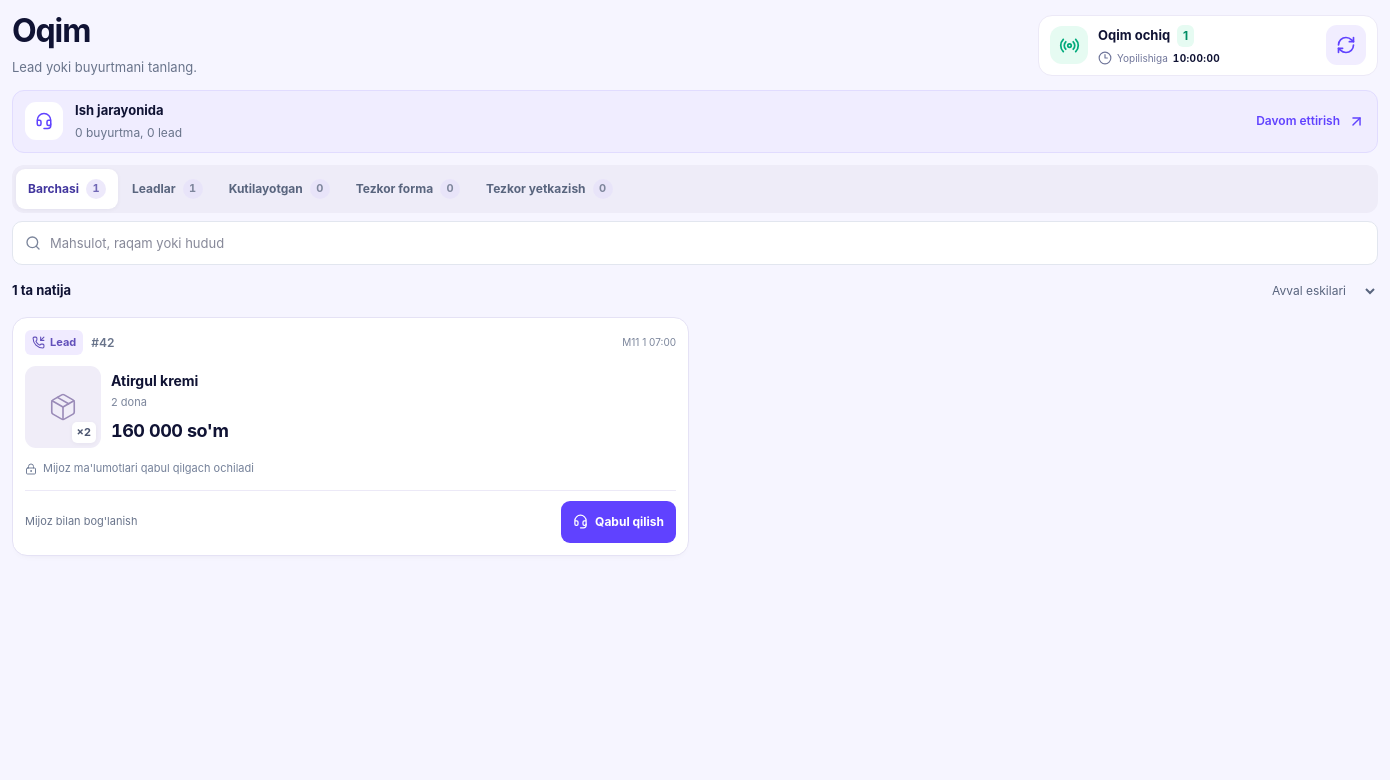
Scenario: operator lead rendering regression › searches lead products and shows an honest no-results state
Type "atirgul" into the field named "Oqimdan qidirish" at (708, 243), box [50,222,1365,264]
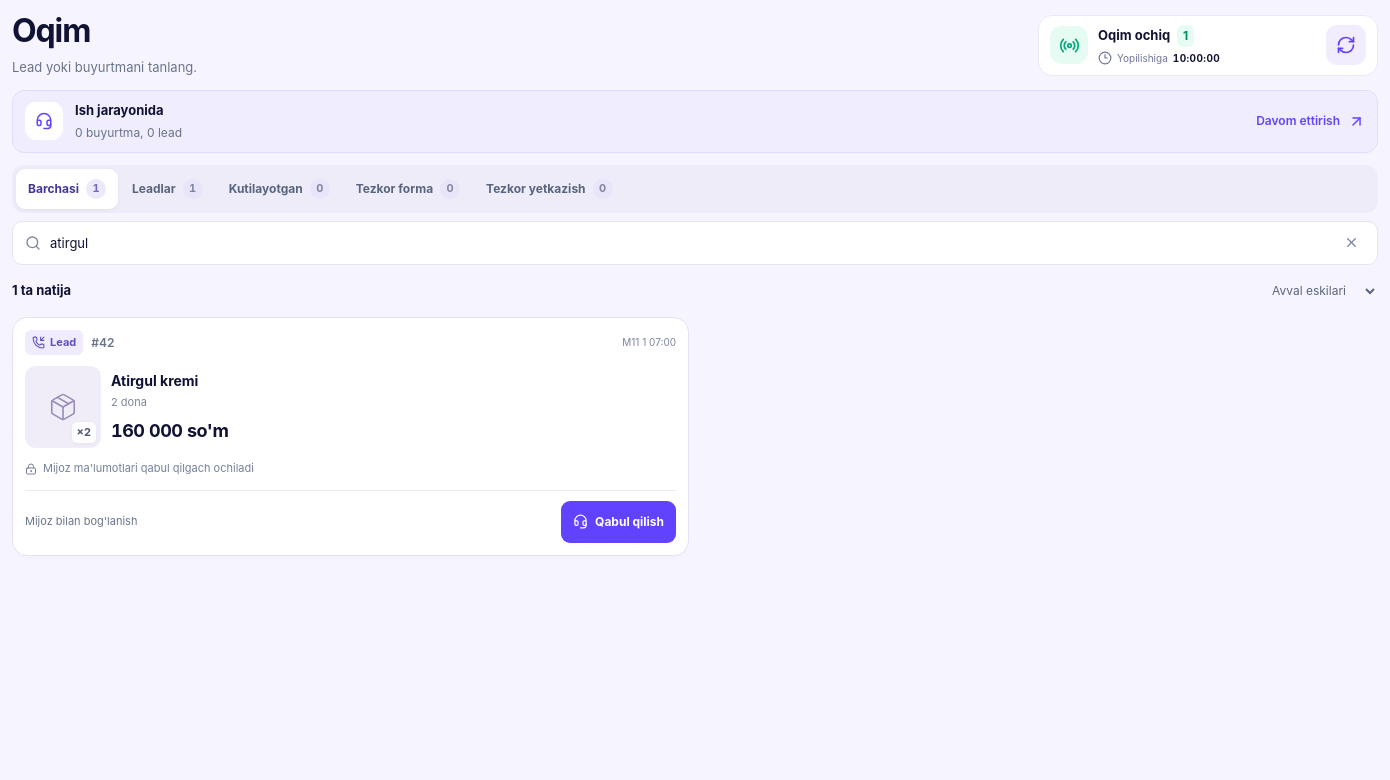
Check: the heading "Atirgul kremi" is shown, box [111,372,198,389]
Replace the text in the field named "Oqimdan qidirish" with "no-match" at (689, 243), box [50,222,1328,264]
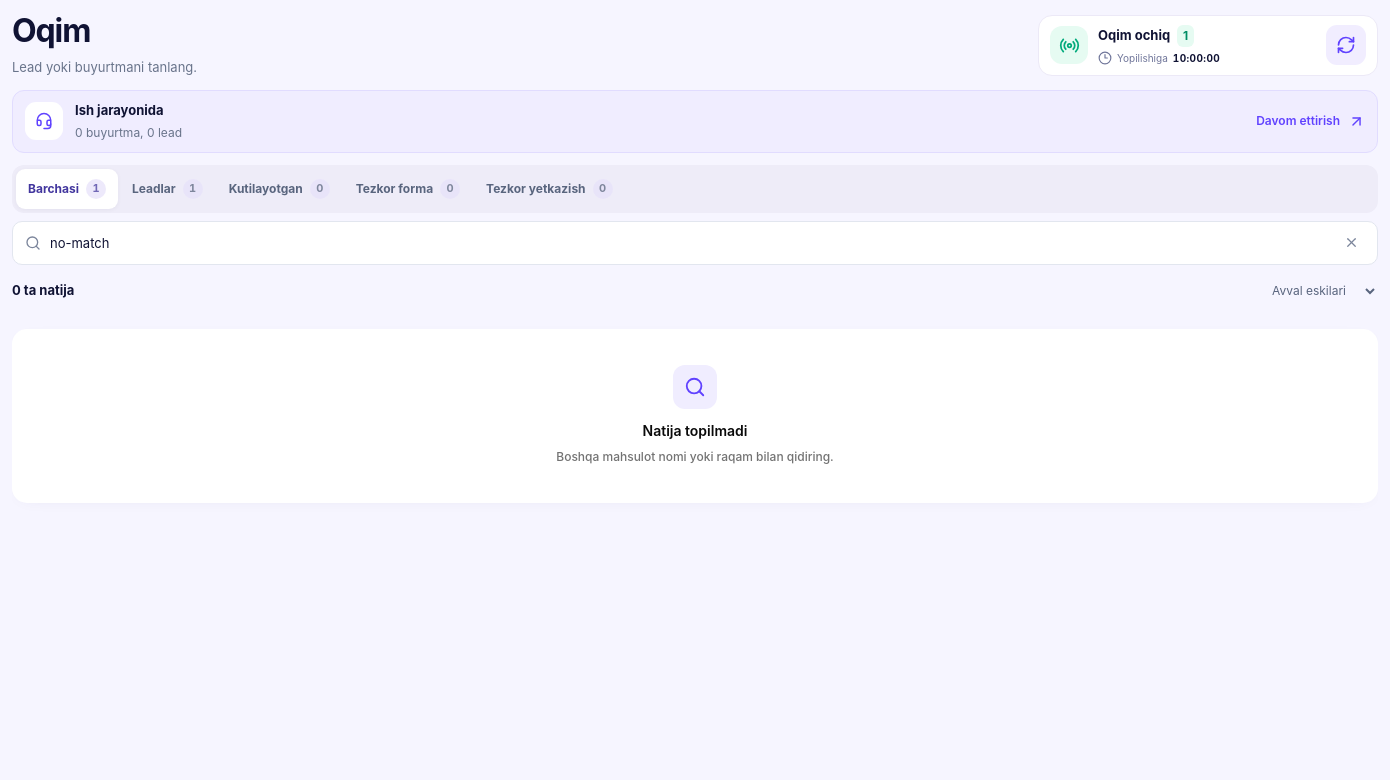
Check: the heading "Natija topilmadi" is shown, box [642,422,748,439]
